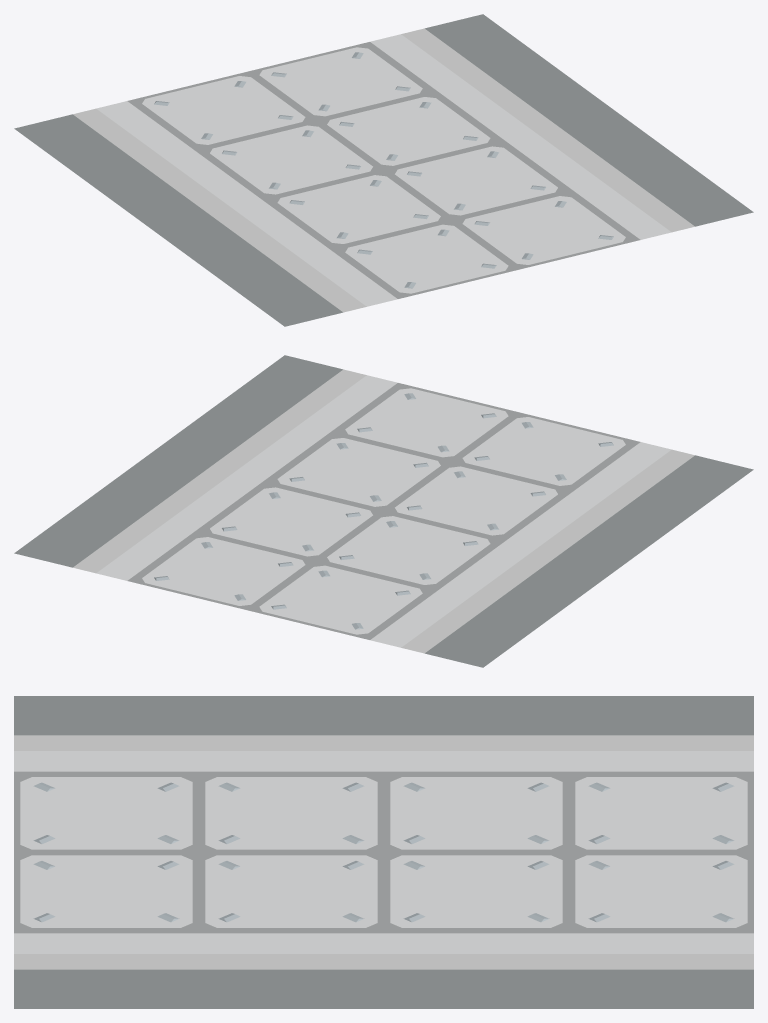
File: Floor_type_A_007_001.glb
The picture shows the model from 3 angles, top to bottom: view 1: azimuth 30°, elevation 25°; view 2: azimuth 150°, elevation 25°; view 3: azimuth 270°, elevation 25°; orthographic projection. The views are drawn at different scales.
Visible parts, largest first — view 1: Floor_type_A_007.001; view 2: Floor_type_A_007.001; view 3: Floor_type_A_007.001.
Part boxes in pixels (box(x1,y1,x2,y2)): Floor_type_A_007.001: box(14, 14, 753, 326); Floor_type_A_007.001: box(14, 355, 753, 667); Floor_type_A_007.001: box(14, 696, 753, 1008).
Bounding box in the file's own units: 4 × 0.008 × 4.
Materials: 1 (1 with a texture image).
